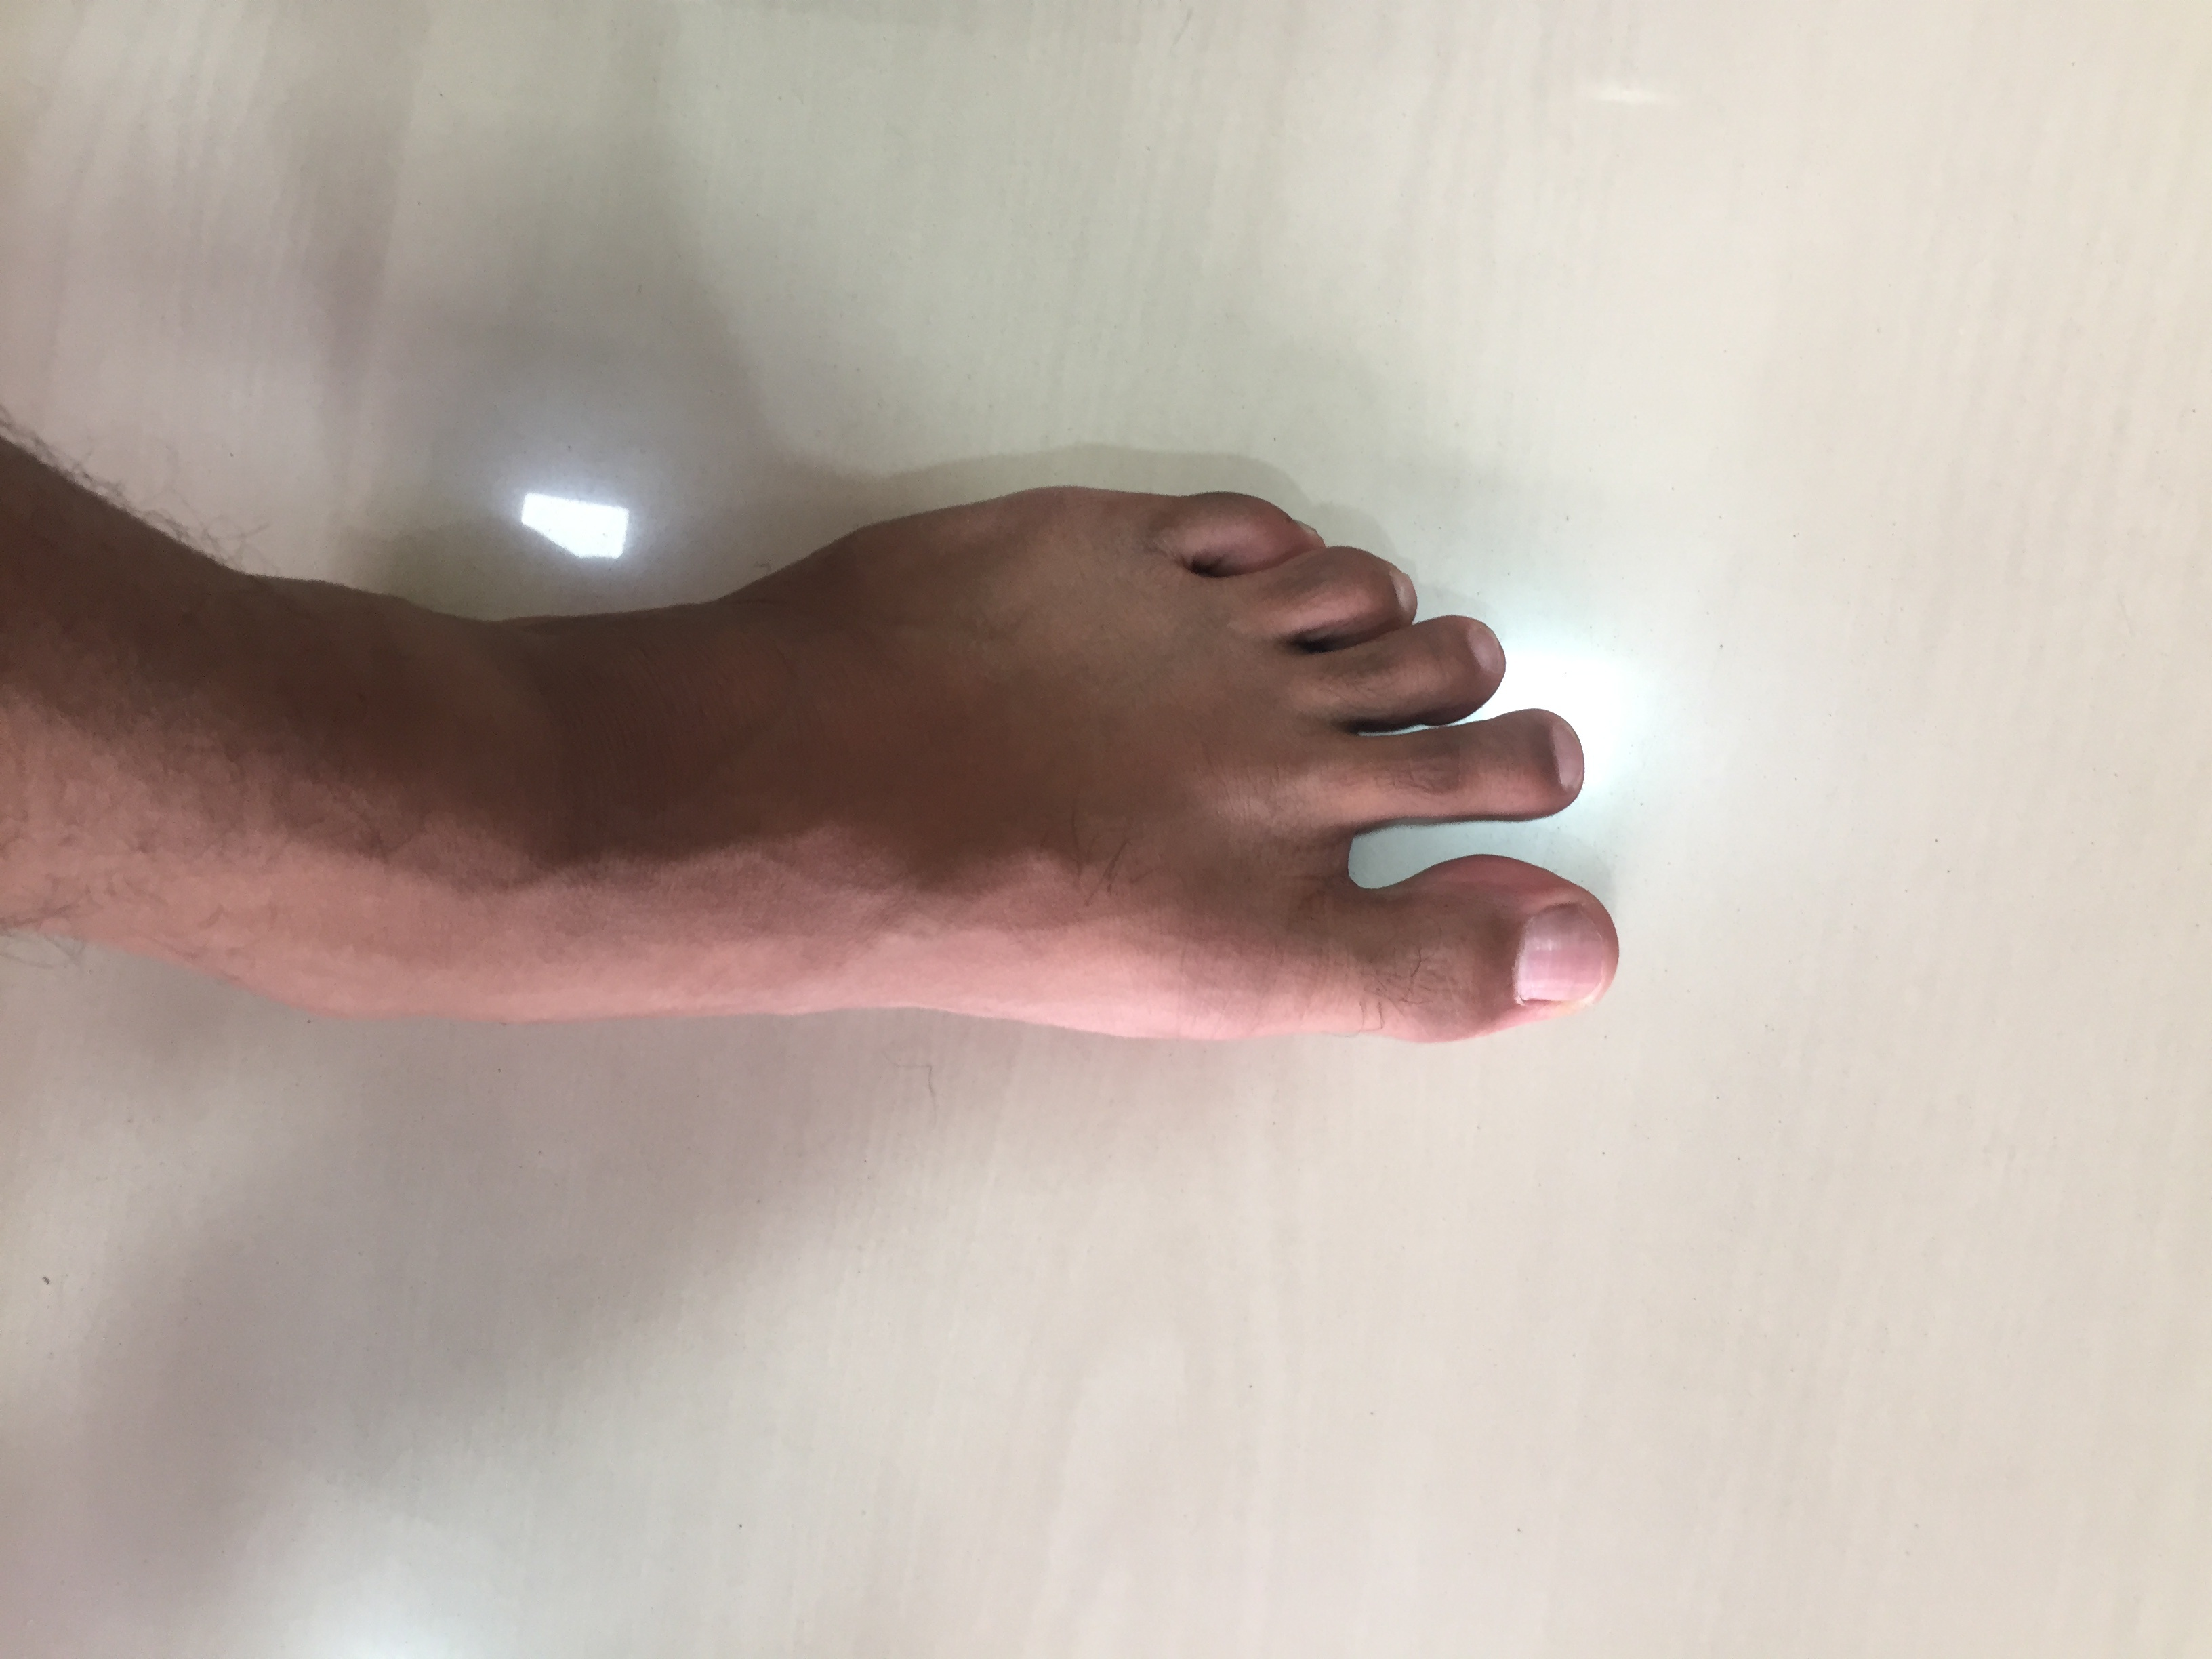feet: (113, 373, 1639, 1073)
